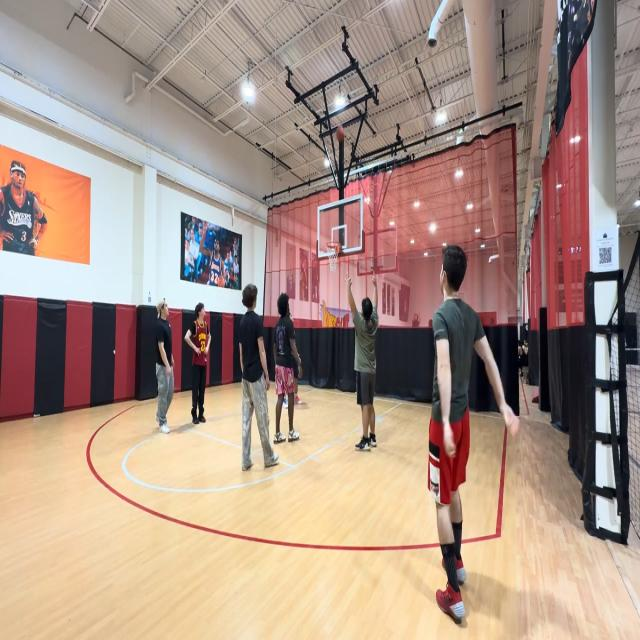Basketball: (336, 125, 345, 142)
Basketball Rim: (327, 242, 341, 272)
